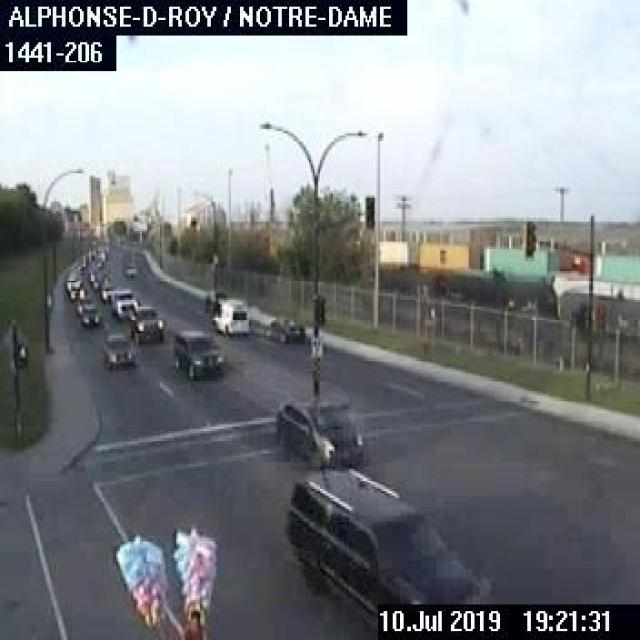pedestrian: (182, 609, 202, 638)
vehicle: (284, 463, 494, 633), (272, 393, 364, 468), (171, 328, 223, 376), (212, 295, 248, 337), (129, 303, 164, 345), (100, 331, 132, 369), (267, 314, 304, 342), (107, 286, 138, 318), (79, 302, 102, 328), (100, 282, 115, 301), (68, 286, 85, 301), (122, 262, 136, 277), (63, 277, 79, 290), (92, 277, 109, 287)
